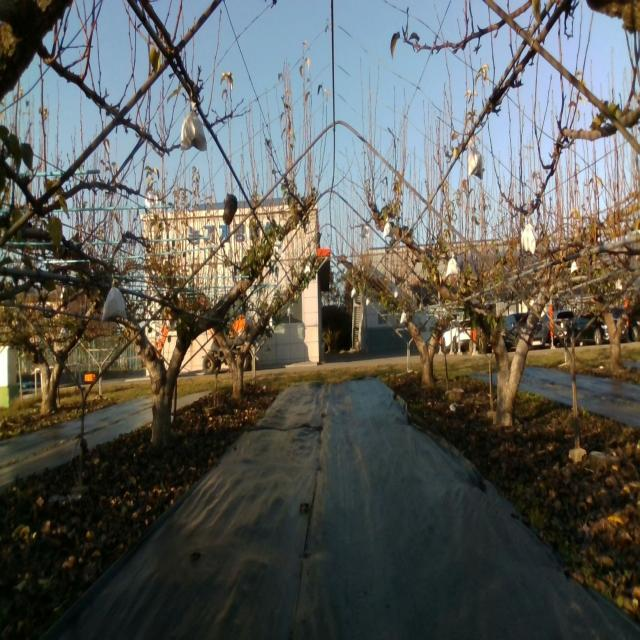pearbags: (179, 100, 208, 152), (101, 281, 128, 321), (467, 142, 484, 180), (521, 225, 535, 257), (446, 252, 459, 279)
